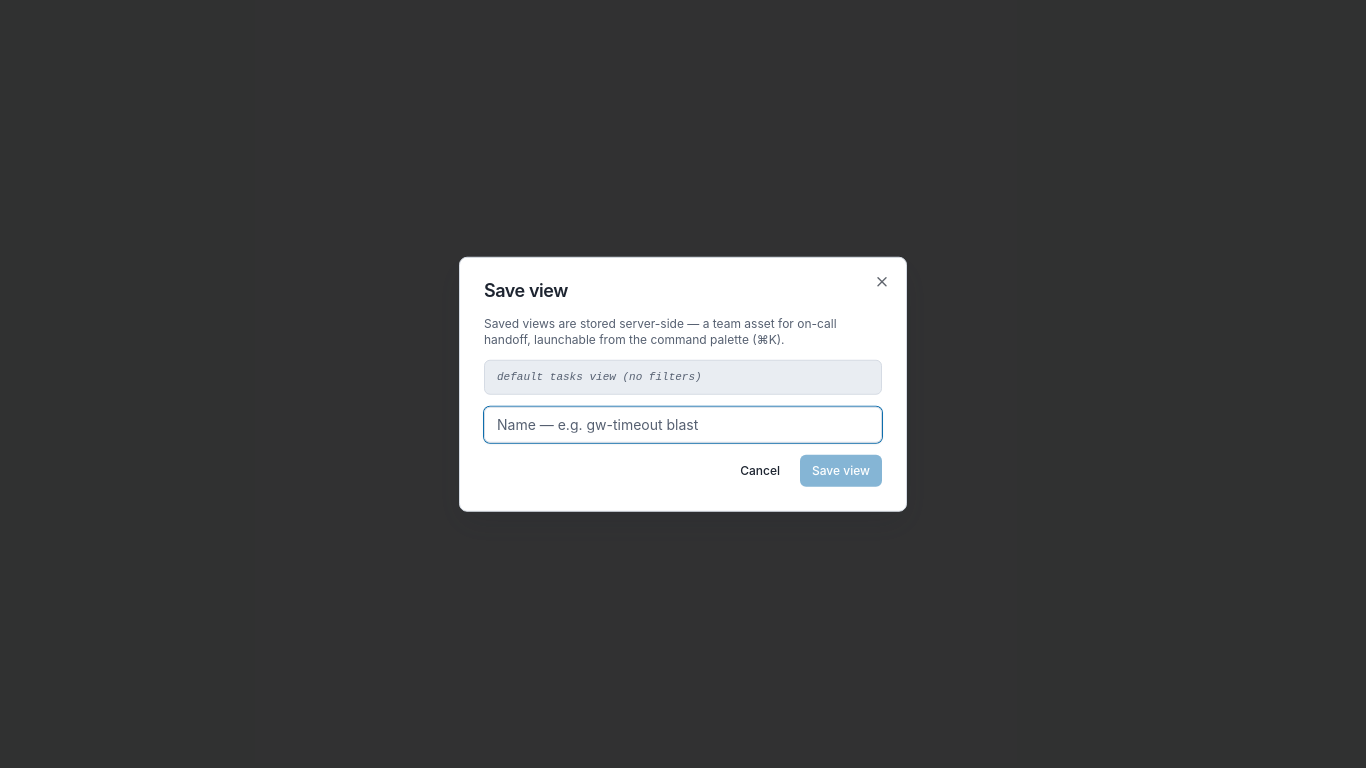
Test case: SaveViewModal › reports the server duplicate-name 409 in the modal
Type "x" into the field with placeholder "Name — e.g. gw-timeout blast" at [683, 424], box [484, 406, 882, 442]
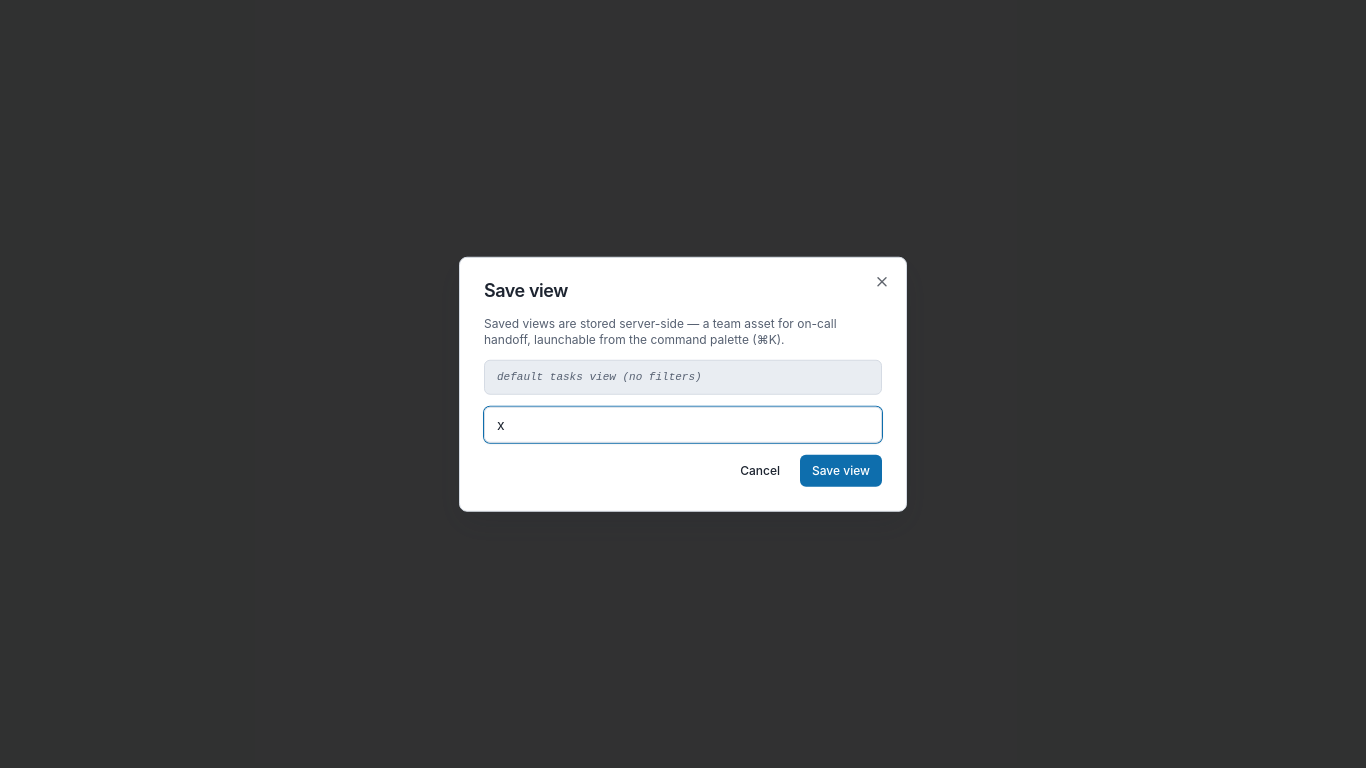
Click the button "Save view" at [841, 470], box [800, 454, 882, 486]
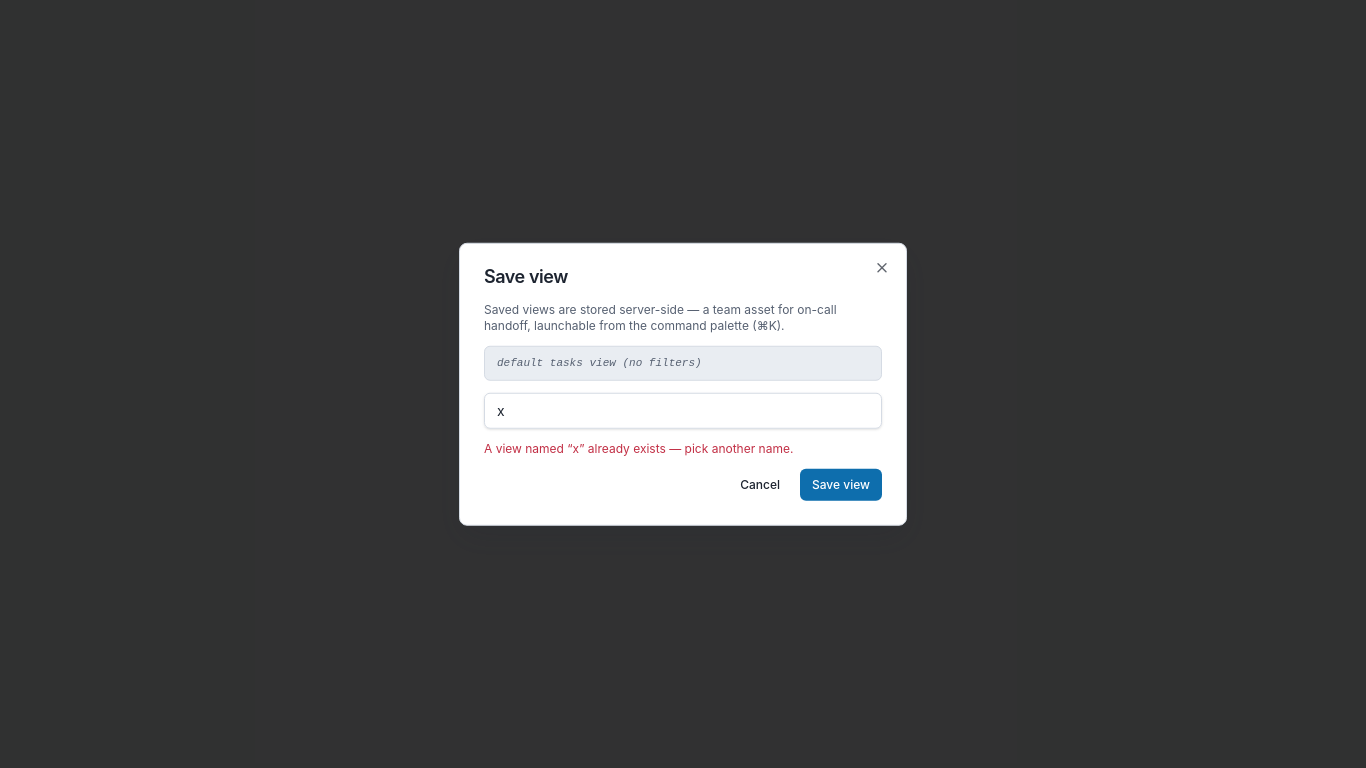
Check: the text "A view named “x” already exists — pick another name." is shown, box [484, 440, 793, 455]
